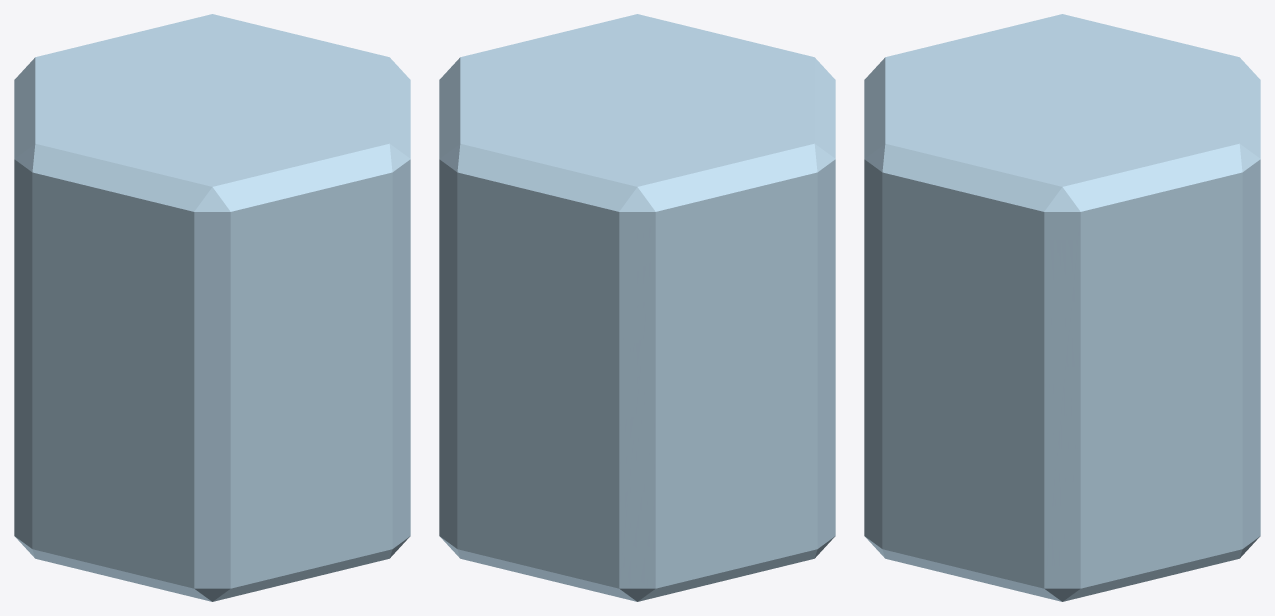
Rendered from R4B_HexColumn_LOD1.glb.
3 views of the same model, side by side, from view 1: azimuth 30°, elevation 25°; view 2: azimuth 150°, elevation 25°; view 3: azimuth 270°, elevation 25° (orthographic).
Visible parts, largest first — view 1: R4B_HexColumn_LOD1; view 2: R4B_HexColumn_LOD1; view 3: R4B_HexColumn_LOD1.
Part boxes in pixels (x1,y1,x2,y2): R4B_HexColumn_LOD1: (14, 14, 410, 601); R4B_HexColumn_LOD1: (439, 14, 835, 601); R4B_HexColumn_LOD1: (864, 14, 1260, 601).
Size of the model in its own units: 0.496 by 0.52 by 0.4503.
